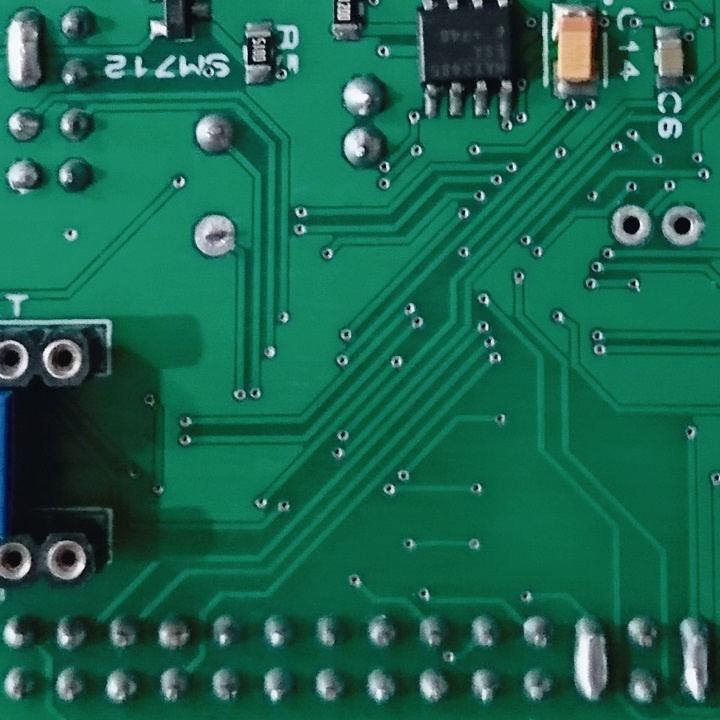F: (659, 202, 707, 253), (190, 212, 239, 259), (607, 204, 652, 249)
P: (569, 610, 613, 706), (676, 611, 716, 710), (4, 5, 46, 94)
